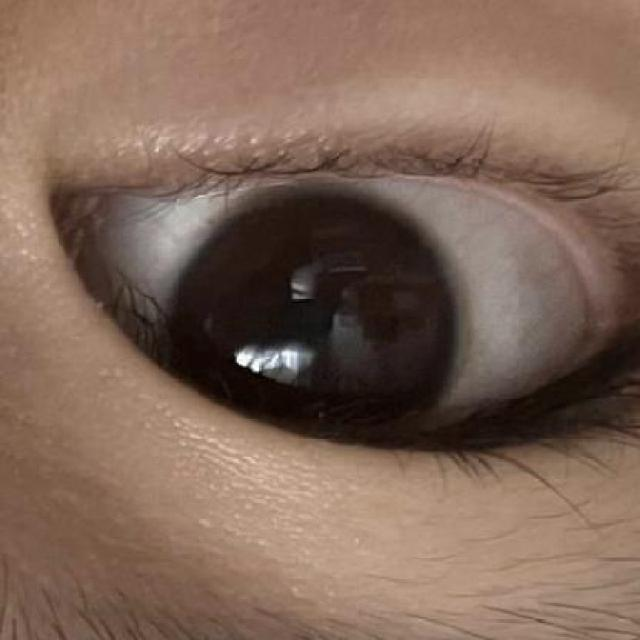Normal: (159, 194, 459, 459)
